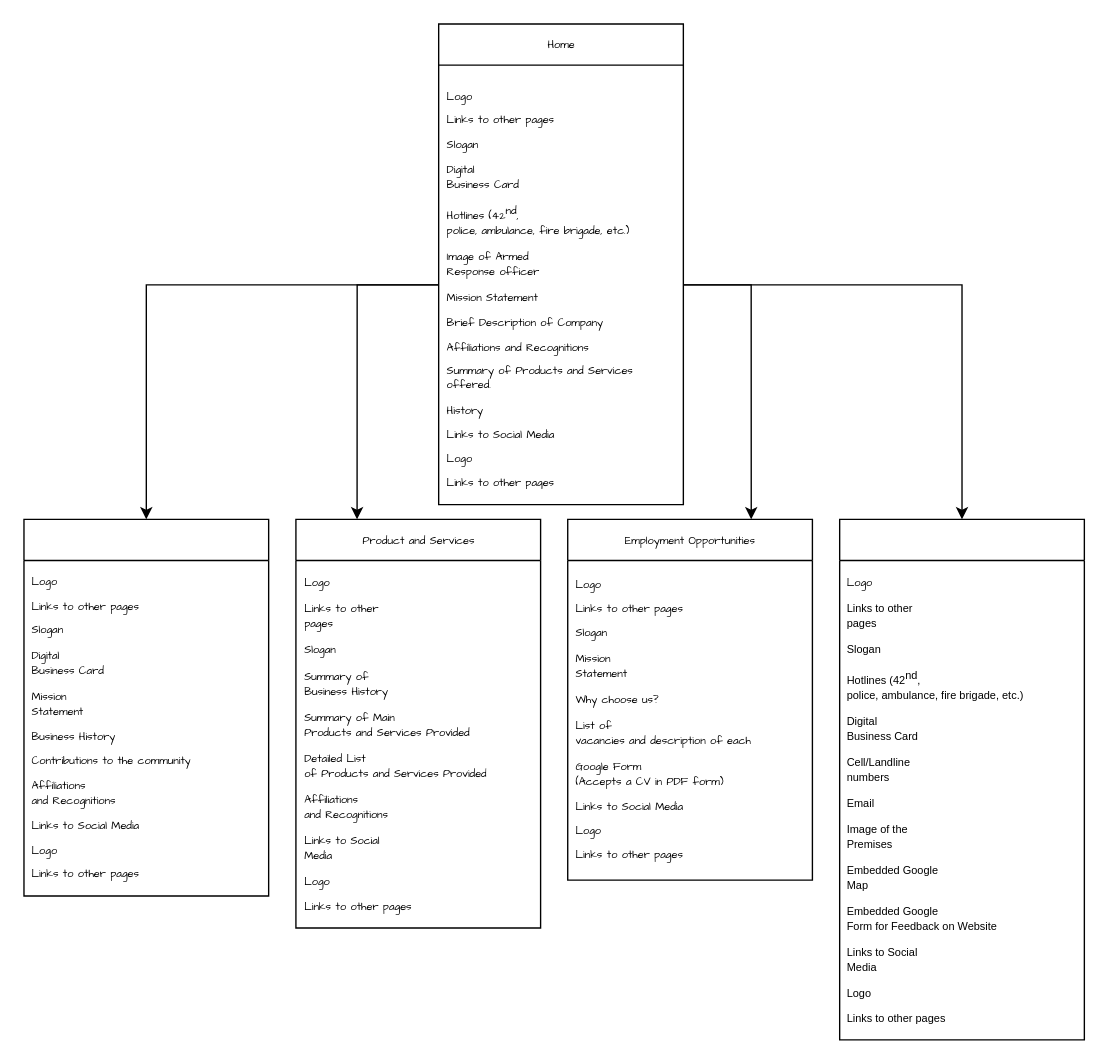
Some shapes in this 1108 by 1064 pixel diagram are drawn without their labels. Here are the shapes that lost their labels. From the top down, the box of each, then its label:
(23, 518, 269, 896): About
(838, 518, 1084, 1040): Contact Us
